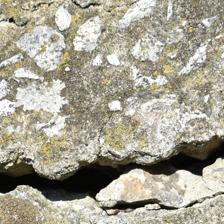Crack: (1, 65, 221, 150)
